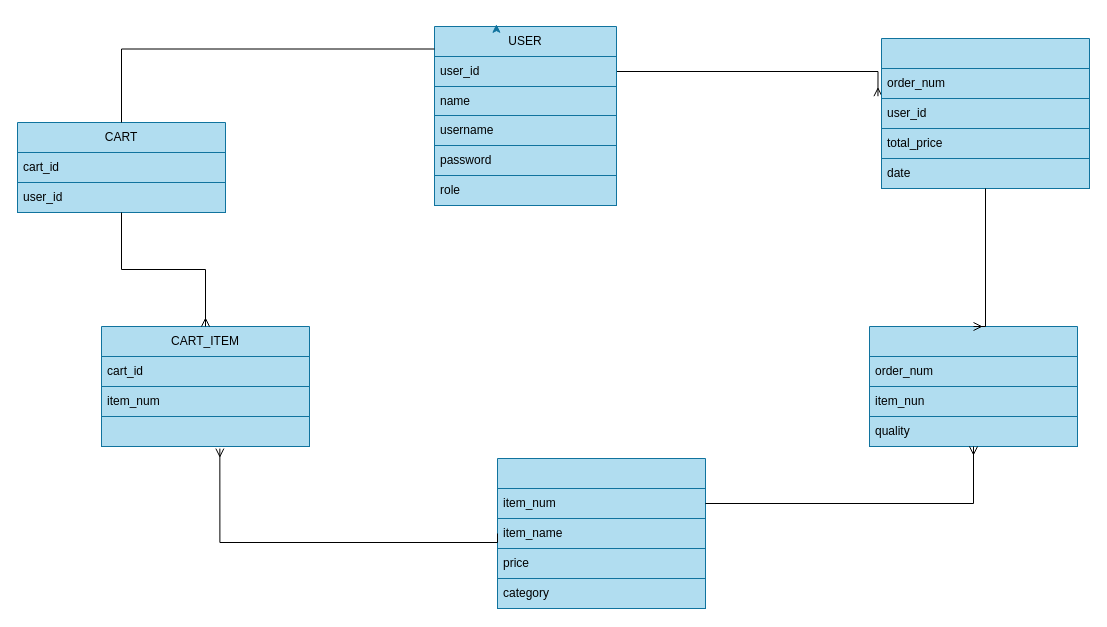
Image size: 1107x627. Some labels were removed from this diagram. The box of each missing label's shape, as (x1, y1, x2, y2) in pixels:
item_quantity: (100, 416, 310, 446)
MENU_ITEM: (496, 458, 706, 608)
ORDER_ITEM: (868, 326, 1078, 446)
ORDERS: (880, 38, 1090, 188)
